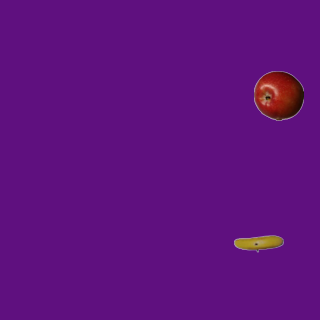Apple Braeburn: (253, 70, 303, 120)
Banana: (233, 218, 283, 268)
